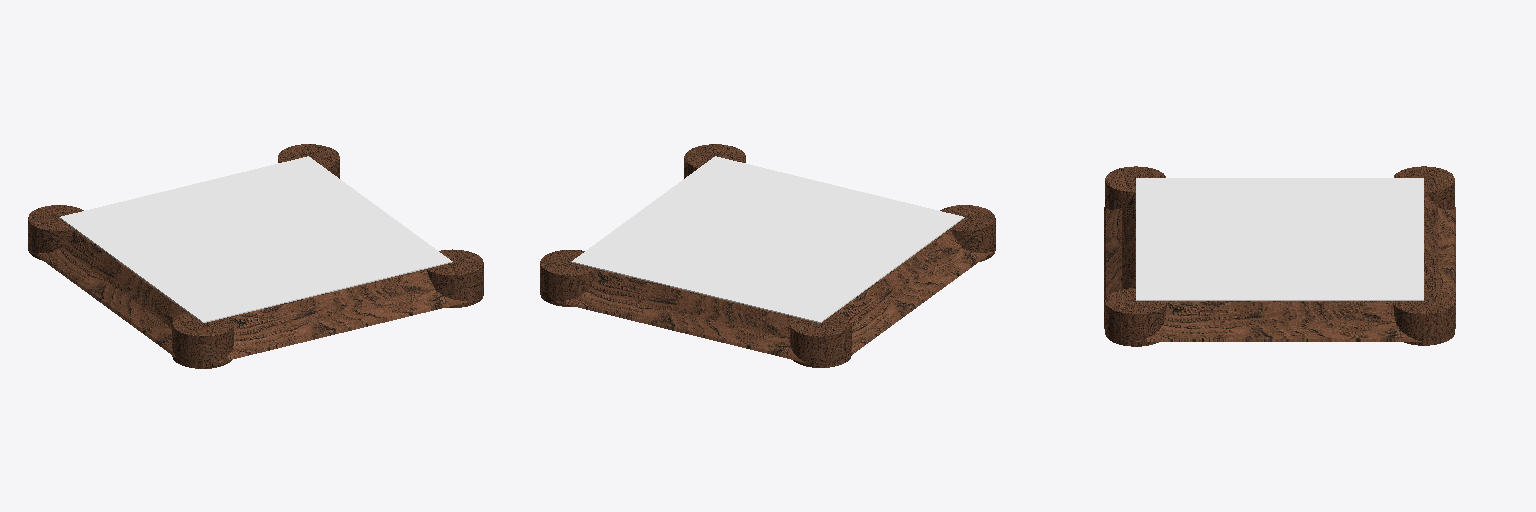
The picture shows the model from 3 angles: view 1: azimuth 30°, elevation 25°; view 2: azimuth 150°, elevation 25°; view 3: azimuth 270°, elevation 25°; orthographic projection.
Parts seen in each view (by area): view 1: s.0073, p.0086, p.0095, p.0097Mirrored, p.0095Mirrored, p.0097, p.0096; view 2: s.0073, p.0086, p.0097Mirrored, p.0097, p.0095, p.0095Mirrored; view 3: s.0073, p.0086, p.0097, p.0095Mirrored, p.0097Mirrored, p.0095, p.0096.
Boxes of the visible parts, x1=… form: s.0073: x1=59, y1=156, x2=452, y2=322; p.0086: x1=32, y1=219, x2=467, y2=362; p.0095: x1=172, y1=312, x2=233, y2=368; p.0097Mirrored: x1=28, y1=205, x2=83, y2=260; p.0095Mirrored: x1=427, y1=249, x2=483, y2=307; p.0097: x1=278, y1=144, x2=339, y2=178; p.0096: x1=426, y1=250, x2=480, y2=307; s.0073: x1=571, y1=156, x2=964, y2=322; p.0086: x1=556, y1=219, x2=991, y2=362; p.0097Mirrored: x1=790, y1=312, x2=851, y2=367; p.0097: x1=540, y1=250, x2=597, y2=306; p.0095: x1=940, y1=205, x2=995, y2=261; p.0095Mirrored: x1=684, y1=144, x2=745, y2=178; s.0073: x1=1136, y1=178, x2=1423, y2=300; p.0086: x1=1104, y1=193, x2=1455, y2=341; p.0097: x1=1393, y1=288, x2=1454, y2=345; p.0095Mirrored: x1=1106, y1=288, x2=1166, y2=346; p.0097Mirrored: x1=1394, y1=166, x2=1454, y2=209; p.0095: x1=1105, y1=166, x2=1165, y2=209; p.0096: x1=1105, y1=288, x2=1166, y2=346.
Bounding box in the file's own units: 0.9495 × 0.1005 × 0.9495.
Materials: 2 (1 with a texture image).